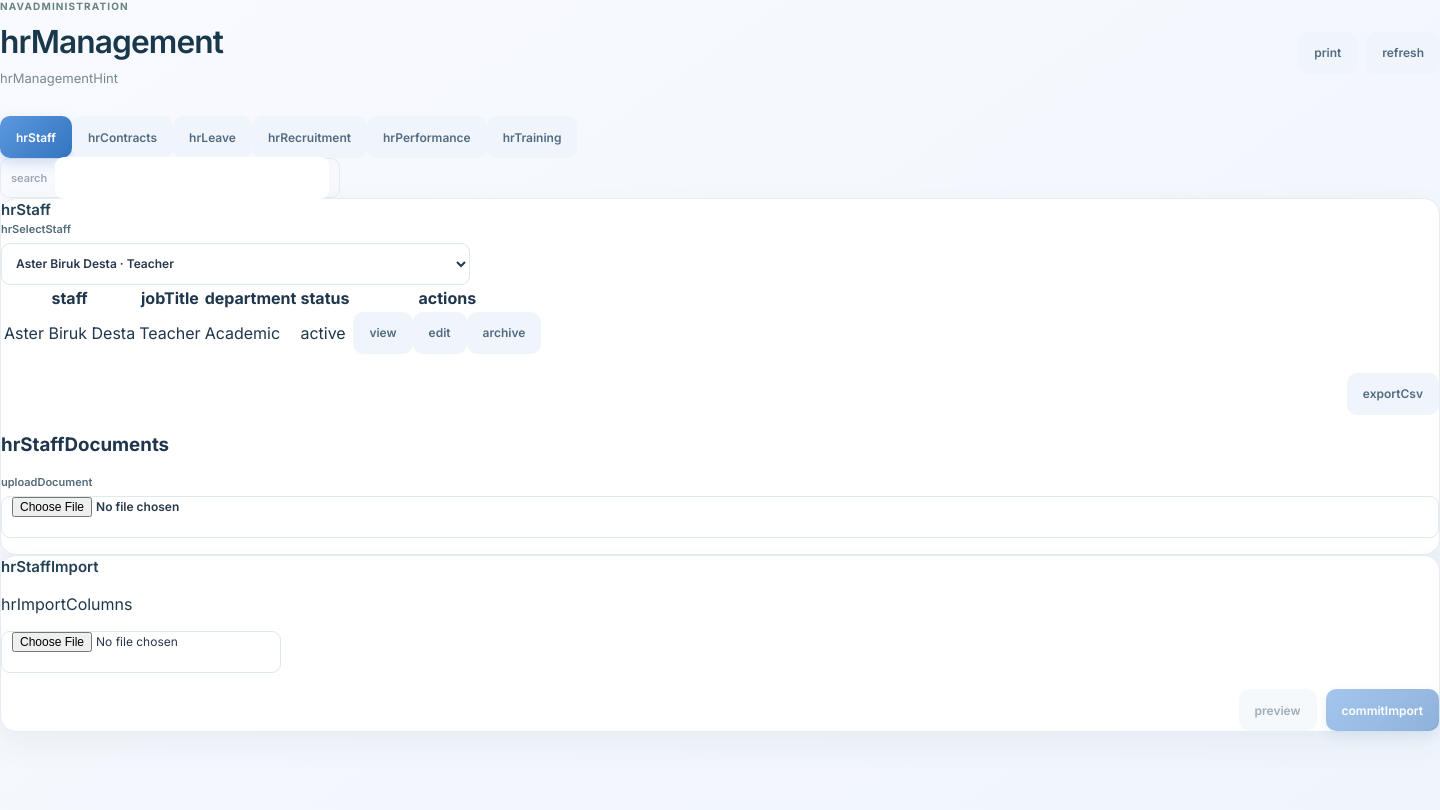
Scenario: HrManagementPage › allows searching and opening the training enrollment list
The width and height of the screenshot is (1440, 810).
Expected: the text "Aster Biruk Desta" is shown, [3,310,136,354]
Click the button "hrTraining" at (532, 137), box [487,116,577,158]
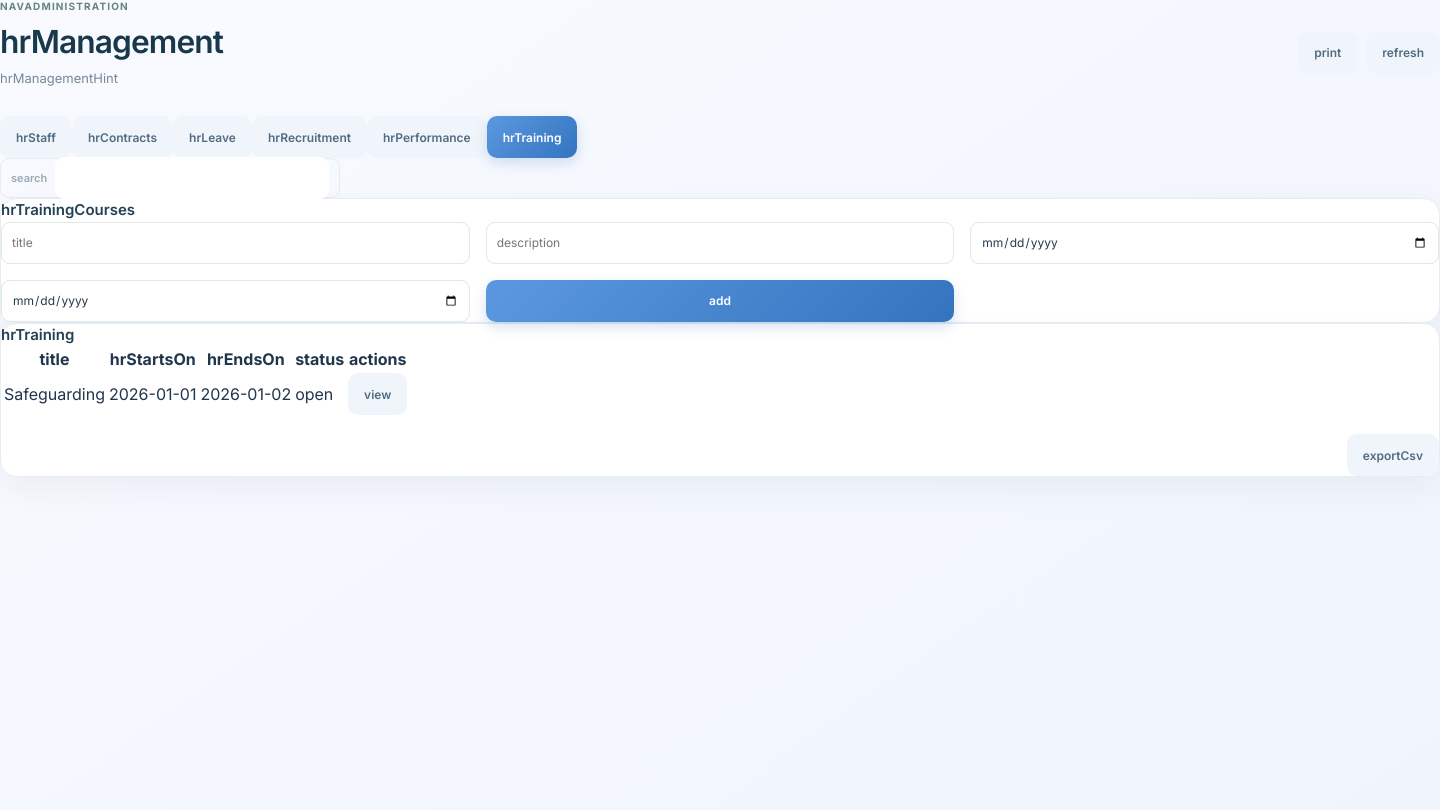
Click the button "view" at (378, 394), box [348,373,407,415]
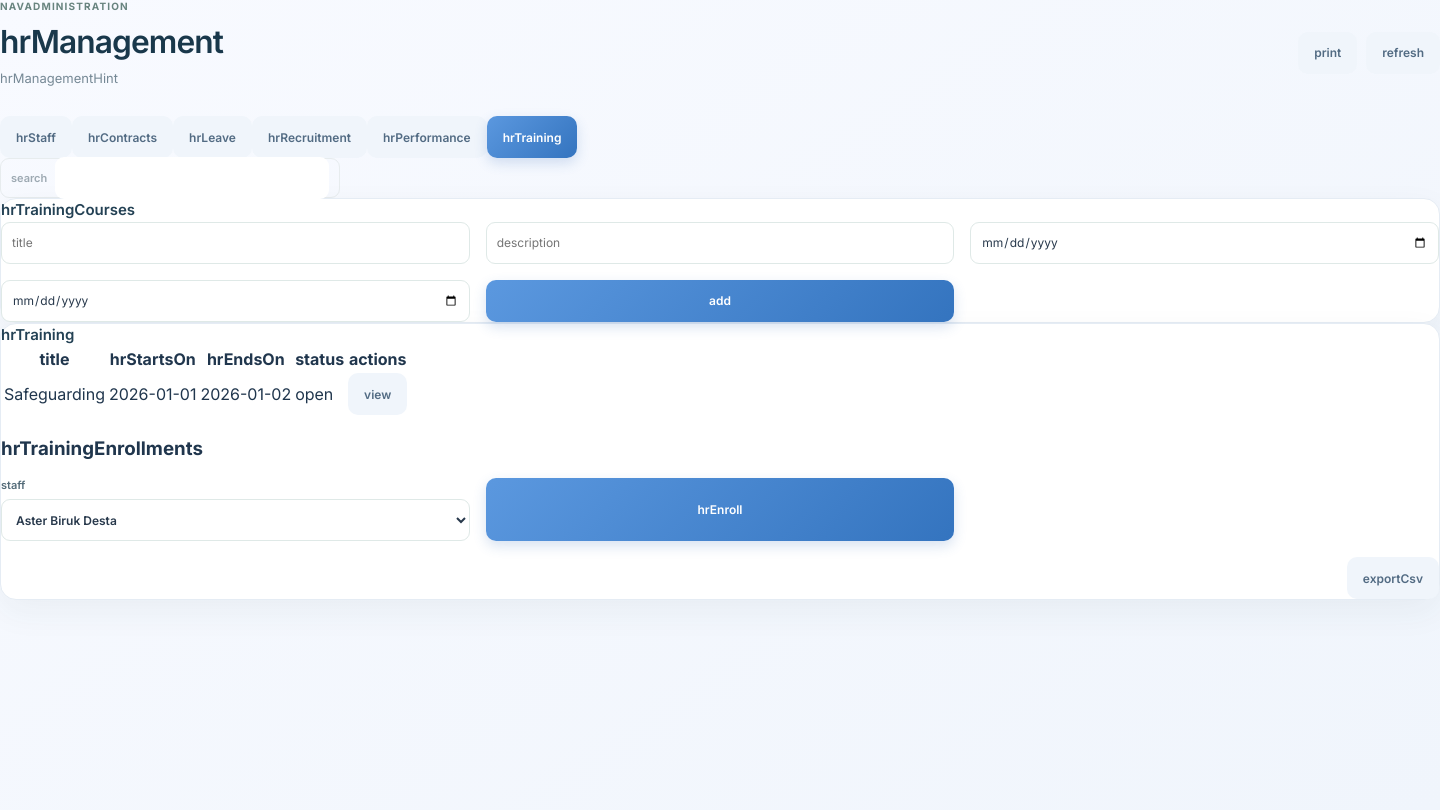
Expected: the heading "hrTrainingEnrollments" is shown, [1,437,203,460]
